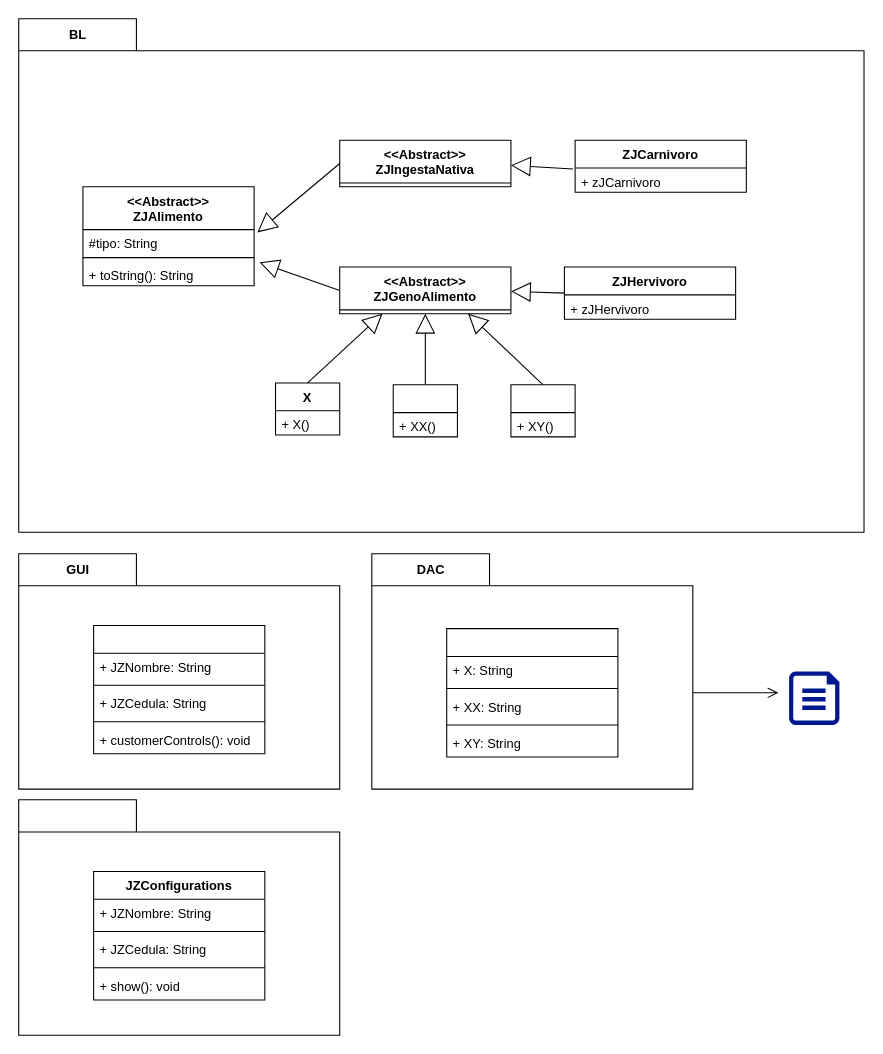
Some shapes in this 883 by 1054 pixel diagram are drawn without their labels. The box of each missing label's shape, as (x1, y1, x2, y2) in pixels:
FW: (18, 799, 340, 1035)
JZFEcuAntApp: (93, 624, 265, 754)
JZFileDAO: (446, 628, 618, 757)
XX: (392, 384, 457, 437)
XY: (510, 384, 575, 437)
